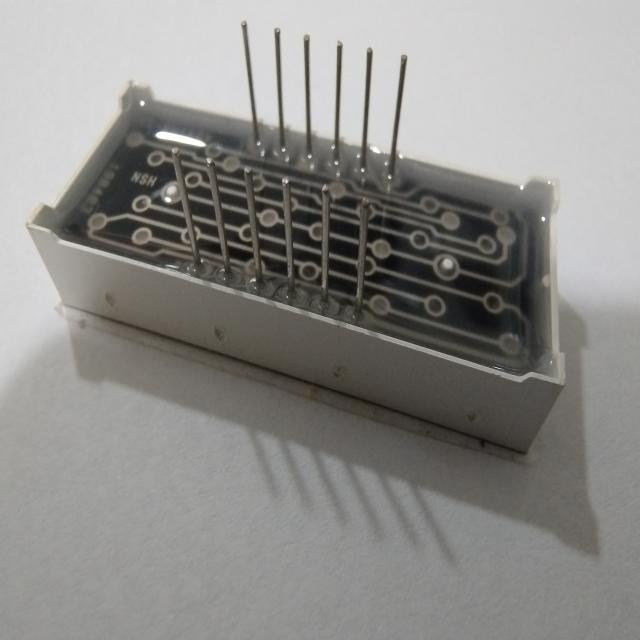7_segments_4_digits: (23, 12, 578, 474)
